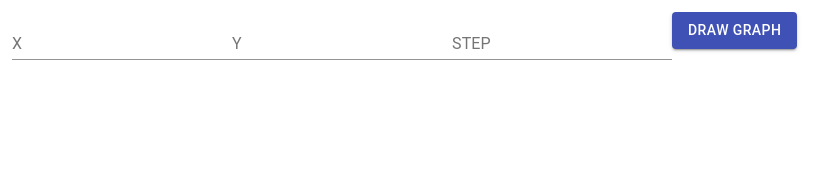
should show error on empty form submit
Click the button "DRAW GRAPH".
click(735, 30)  # box [672,12,797,48]
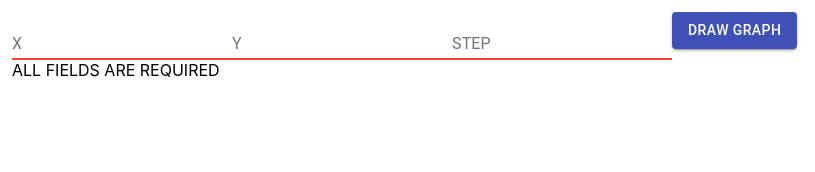
Expected: the text "ALL FIELDS ARE REQUIRED" is shown, [12,60,220,80]
